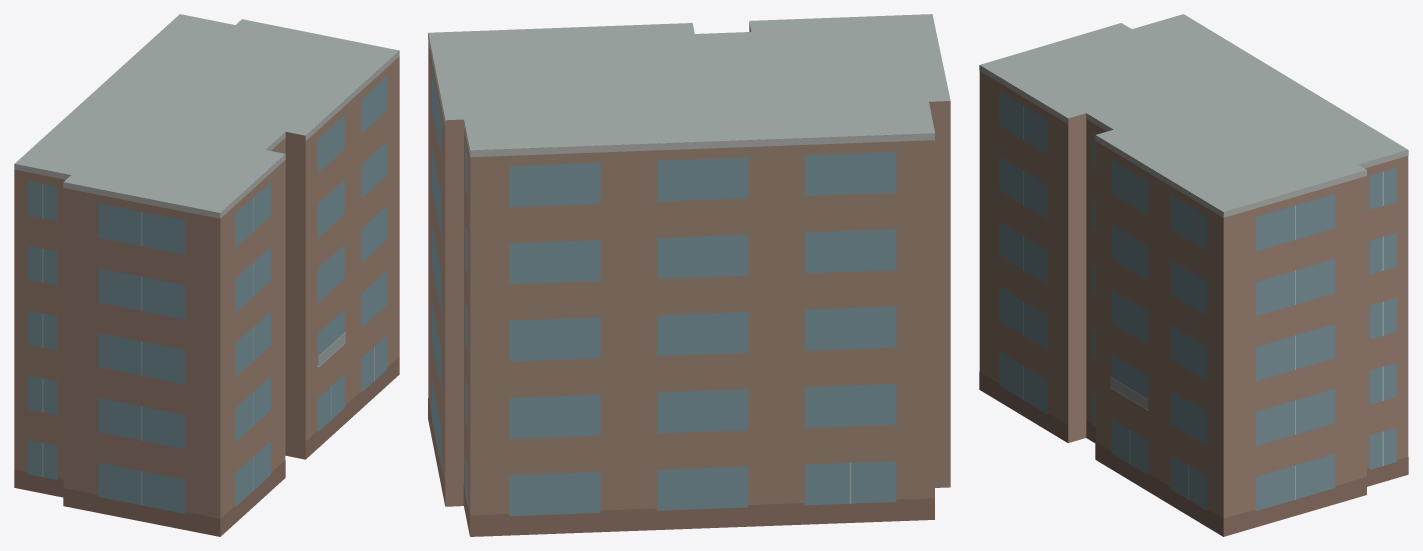
The model's file is survey-upis-32823630.glb.
3 views of the same model, side by side, from view 1: azimuth 30°, elevation 25°; view 2: azimuth 150°, elevation 25°; view 3: azimuth 270°, elevation 25° (orthographic). The views are drawn at different scales.
Parts seen in each view (by area): view 1: survey-upis-32823630.tmp; view 2: survey-upis-32823630.tmp; view 3: survey-upis-32823630.tmp.
Boxes of the visible parts, x1=… form: survey-upis-32823630.tmp: x1=14, y1=14, x2=399, y2=536; survey-upis-32823630.tmp: x1=428, y1=14, x2=950, y2=536; survey-upis-32823630.tmp: x1=979, y1=14, x2=1408, y2=536.
Size of the model in its own units: 17.9 by 13.68 by 16.39.
